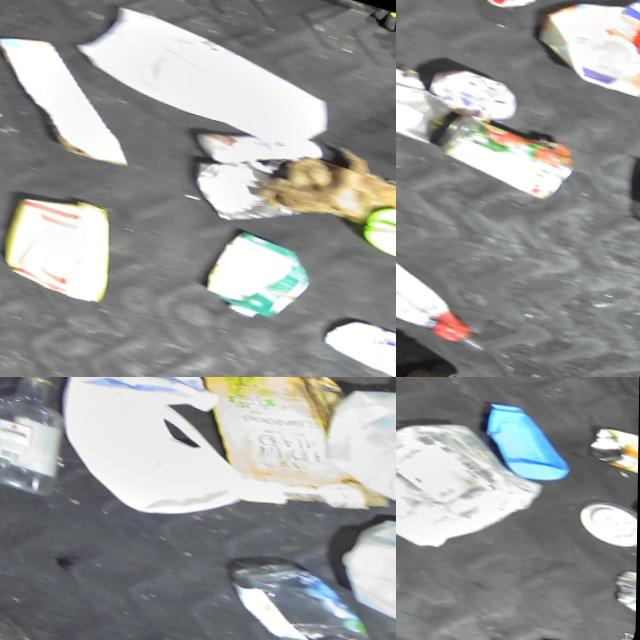can: (433, 100, 587, 204), (188, 140, 314, 236), (396, 63, 461, 145), (585, 416, 639, 477), (609, 556, 638, 606)
milk_jug: (62, 0, 344, 151), (38, 377, 266, 538), (314, 377, 396, 525), (330, 492, 396, 640), (8, 377, 235, 415)
non_white_jug: (0, 179, 128, 303), (200, 219, 317, 325)
plastic_bottle: (213, 543, 396, 640)
